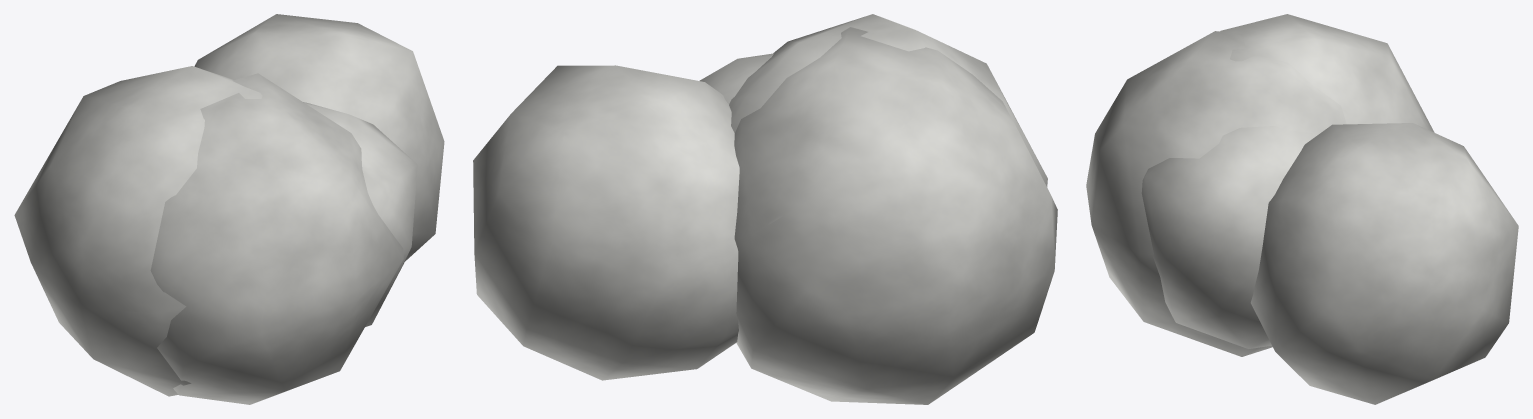
Rendered from ker_v1.glb.
3 renders of one model, left to right at view 1: azimuth 30°, elevation 25°; view 2: azimuth 150°, elevation 25°; view 3: azimuth 270°, elevation 25°, orthographic. The views are drawn at different scales.
Visible parts, largest first — view 1: dum; view 2: dum; view 3: dum.
Part boxes in pixels (<box>): dum: <box>14,14,444,404</box>; dum: <box>473,14,1057,404</box>; dum: <box>1086,14,1518,404</box>.
Bounding box in the file's own units: 1.42 × 0.9374 × 1.25.
1 material, 1 textured.
